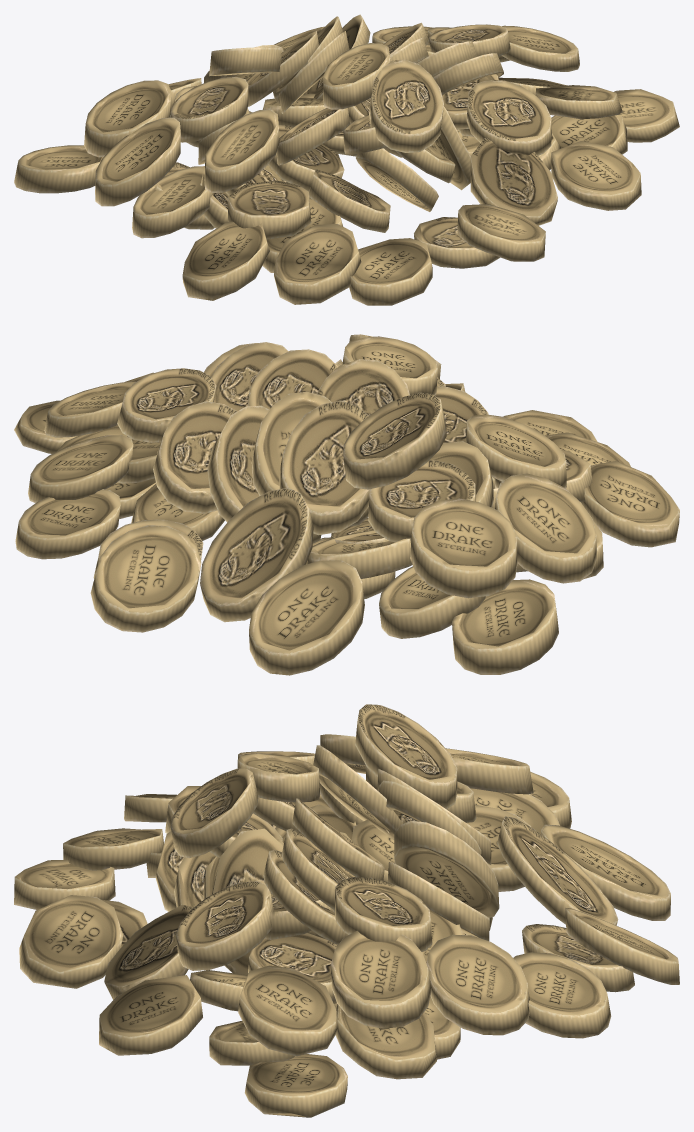
Rendered from coinpile.fbx.
3 renders of one model, top to bottom at view 1: azimuth 30°, elevation 25°; view 2: azimuth 150°, elevation 25°; view 3: azimuth 270°, elevation 25°, orthographic. The views are drawn at different scales.
Parts seen in each view (by area): view 1: coinpile; view 2: coinpile; view 3: coinpile.
Part boxes in pixels (<box>): coinpile: <box>14,14,679,305</box>; coinpile: <box>14,334,679,675</box>; coinpile: <box>14,704,679,1117</box>.
Bounding box in the file's own units: 109 × 30.56 × 92.43.
